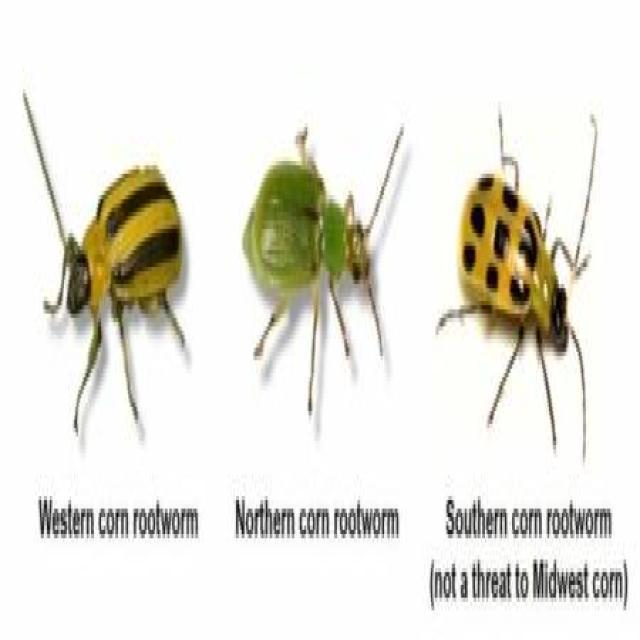gusano_gris: (238, 93, 400, 400)
gusano_verde: (445, 90, 605, 432)
trips: (24, 89, 200, 442)
